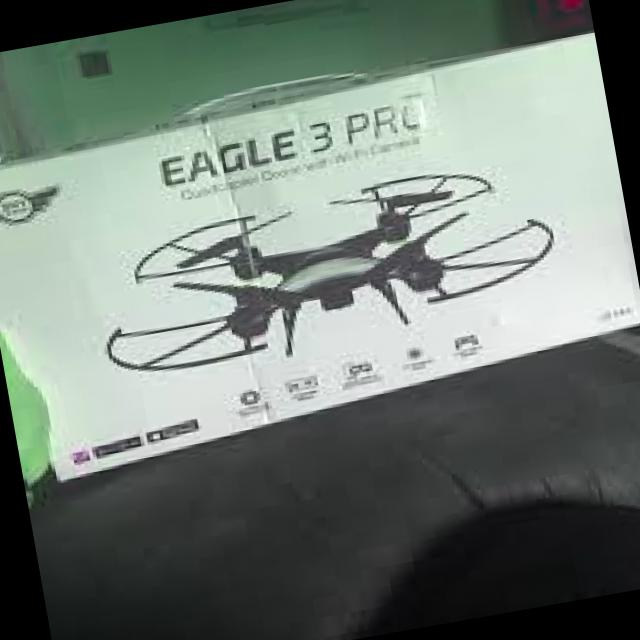drone: (81, 146, 582, 396)
